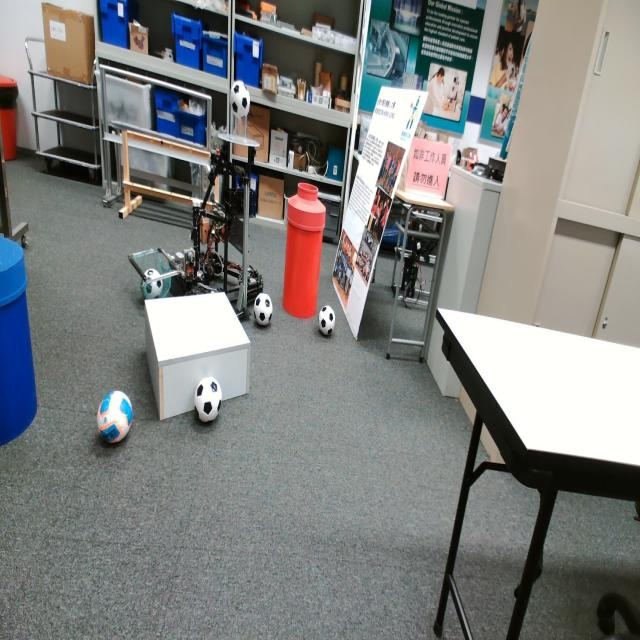ball: (98, 391, 133, 445), (196, 376, 222, 425), (230, 80, 251, 121), (254, 294, 272, 328), (318, 306, 336, 338), (142, 269, 162, 297)
